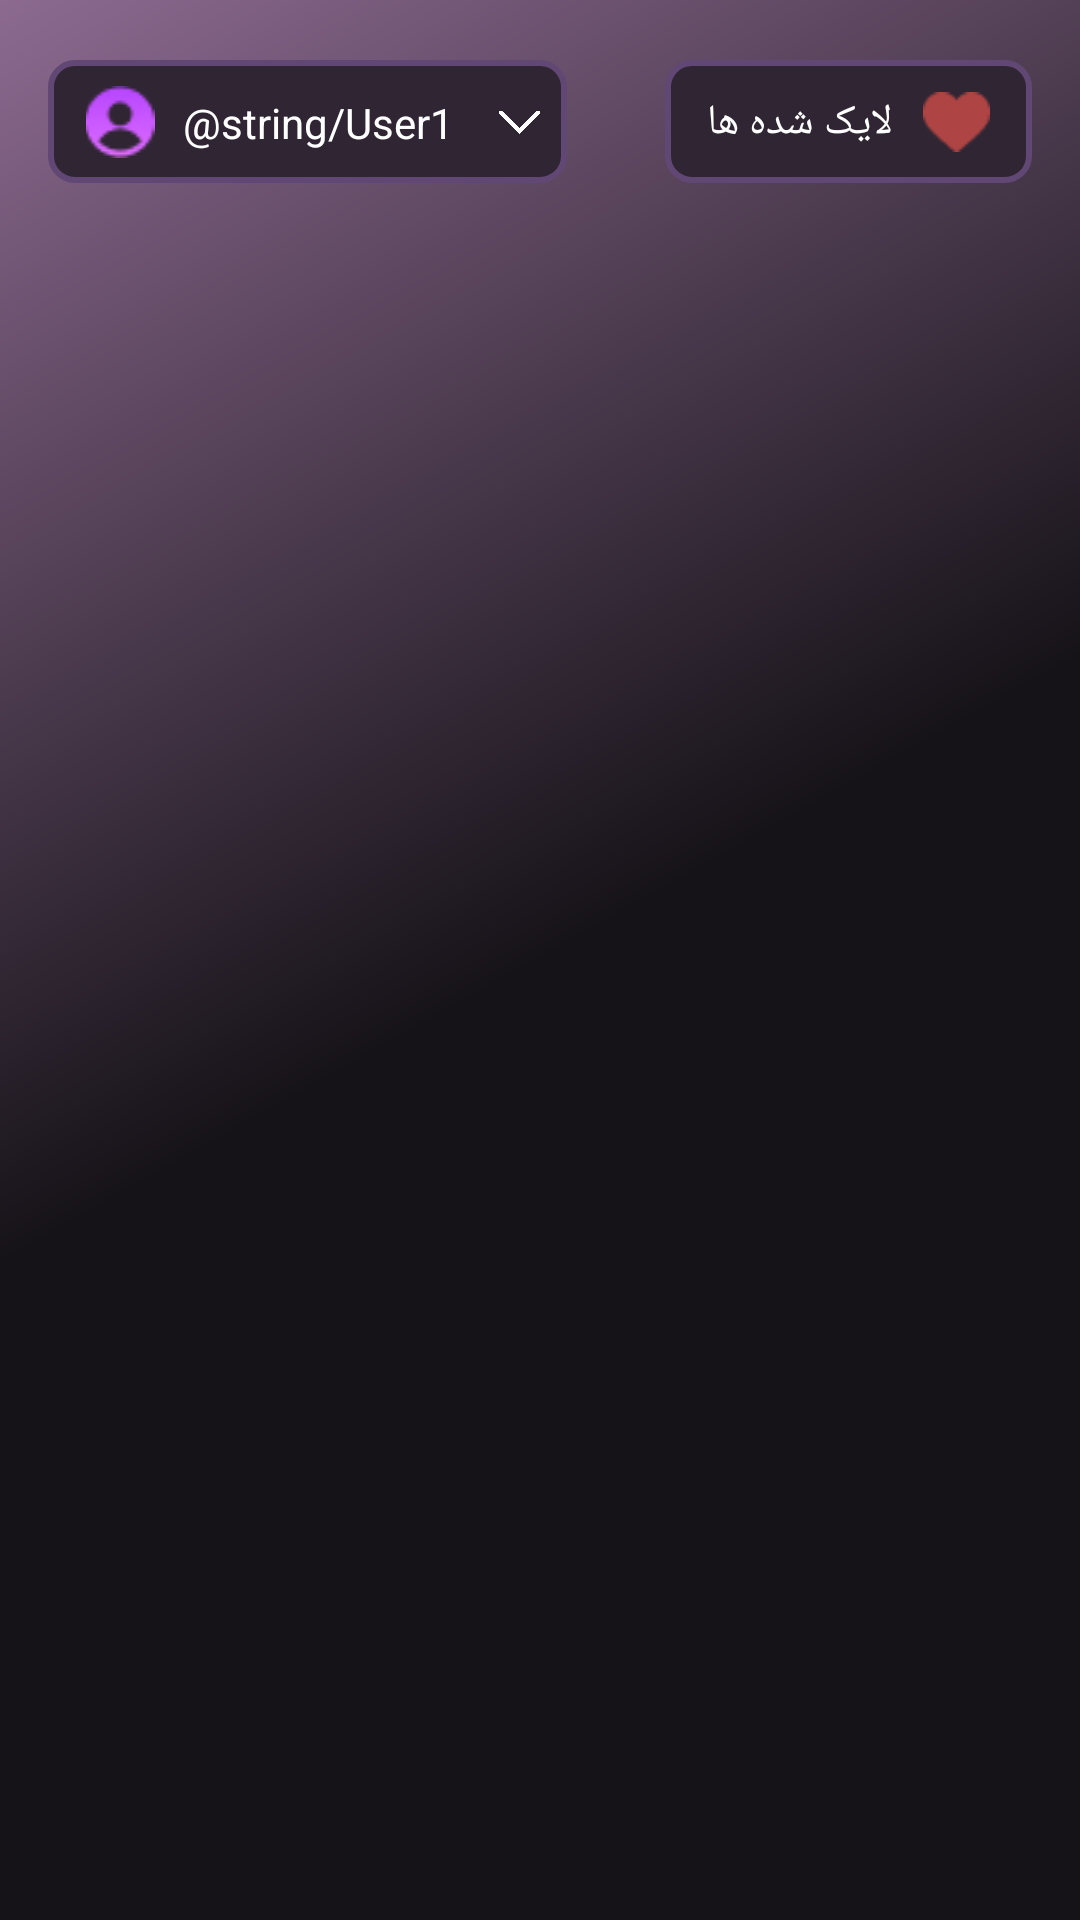

Locate icon controls on the screen. Image size 1080w x 1920h, boxes as rect(x1, y1, x2, y2).
liked: rect(923, 92, 990, 152)
